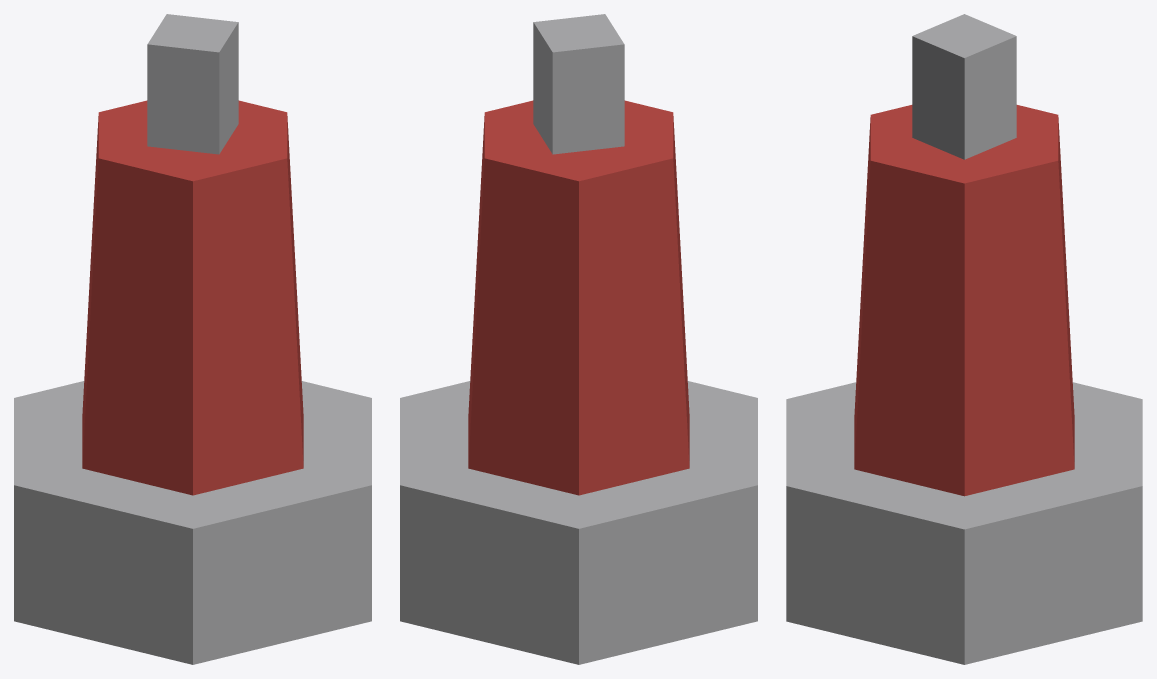
The model's file is plug_lod2.glb.
3 views of the same model, side by side, from view 1: azimuth 30°, elevation 25°; view 2: azimuth 150°, elevation 25°; view 3: azimuth 270°, elevation 25° (orthographic).
Visible parts, largest first — view 1: plug_lod2; view 2: plug_lod2; view 3: plug_lod2.
Part boxes in pixels (x1,y1,x2,y2): plug_lod2: [14, 14, 371, 664]; plug_lod2: [400, 14, 757, 664]; plug_lod2: [786, 14, 1142, 664].
Bounding box in the file's own units: 0.022 × 0.032 × 0.0191.
